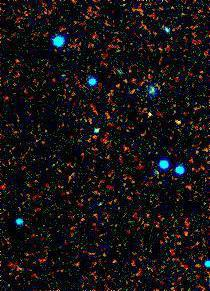star: (163, 109, 193, 139)
